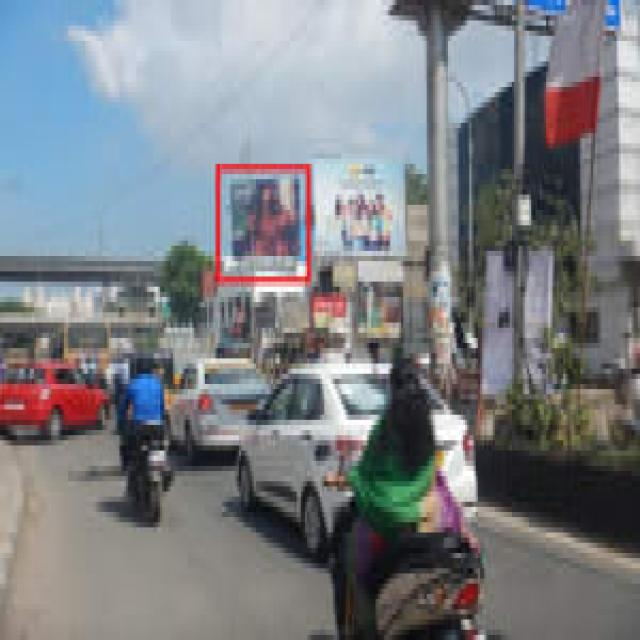Werbetafel frei: (218, 164, 310, 284), (315, 161, 409, 270)
